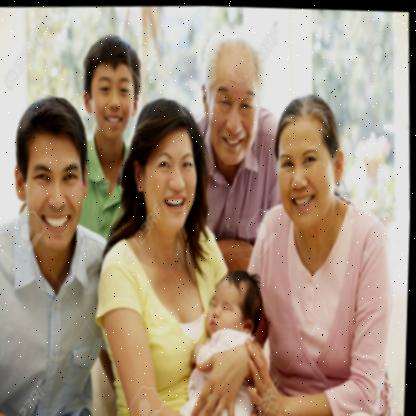person: (7, 98, 91, 248), (273, 94, 353, 238), (190, 34, 267, 171), (127, 104, 203, 235), (73, 29, 146, 143), (207, 268, 262, 352)
